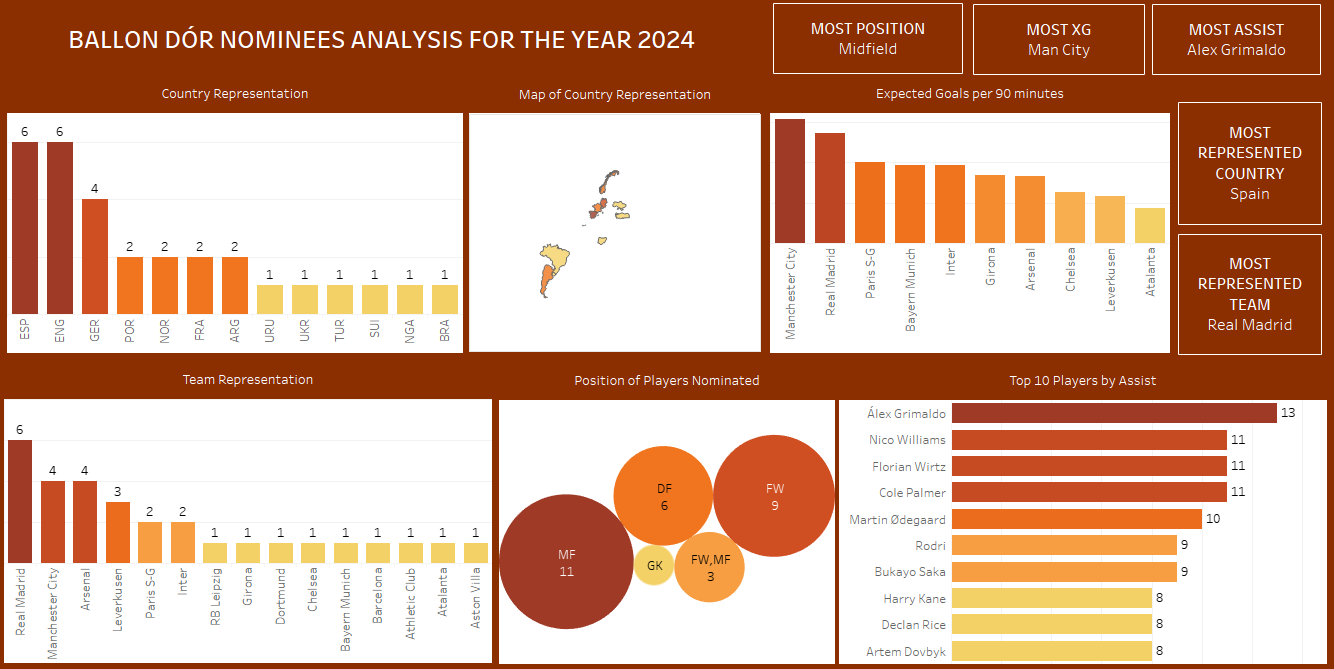

The dashboard page shown, as its layout file describes it:
{"tool":"tableau","page":{"name":"Dashboard","canvas":[1000,1000],"units":"permille","ordinal":0},"visuals":[{"type":"text","box":[11.5,24.2,976.9,951.7]},{"type":"text","box":[578.1,26,139.4,102.2]},{"type":"text","box":[10.7,27.9,561.3,98.5]},{"type":"text","box":[724.7,27.9,126.1,102.2]},{"type":"text","box":[856.1,27.9,123.5,102.2]},{"type":"worksheet","title":"Country Representation","mark":"Automatic","rows":["player"],"cols":["nation"],"box":[17.8,135.7,333.9,392.2]},{"type":"worksheet","title":"Expected Goals per 90 minutes","mark":"Automatic","rows":["Per 90 Minutes-xG"],"cols":["team"],"box":[576.4,135.7,293.1,392.2]},{"type":"worksheet","title":"Map of Country Representation","mark":"Multipolygon","box":[356.1,137.6,214,399.6]},{"type":"text","box":[874.8,167.3,105.7,176.6]},{"type":"text","box":[874.8,356.9,105.7,172.9]},{"type":"worksheet","title":"Team Representation","mark":"Automatic","rows":["player"],"cols":["team"],"box":[15.6,545.6,357.6,425.7]},{"type":"worksheet","title":"Position of Players Nominated","mark":"Circle","box":[377.5,547.3,245.9,425.7]},{"type":"worksheet","title":"Top 10 Players by Assist","mark":"Automatic","rows":["player"],"cols":["Ast"],"box":[626.8,547.3,357.6,425.7]}]}

Visuals, with their boxes on the dashboard's canvas, which has no fixed pixel size, in thousandths of its width and height (x1, y1, x2, y2). These are canvas units, not pixel positions in the 1334x669 screenshot, which may show the page scaled, cropped or inside an application window:
text: (x1=12, y1=24, x2=988, y2=976)
text: (x1=578, y1=26, x2=718, y2=128)
text: (x1=11, y1=28, x2=572, y2=126)
text: (x1=725, y1=28, x2=851, y2=130)
text: (x1=856, y1=28, x2=980, y2=130)
"Country Representation" worksheet: (x1=18, y1=136, x2=352, y2=528)
"Expected Goals per 90 minutes" worksheet: (x1=576, y1=136, x2=870, y2=528)
"Map of Country Representation" worksheet (Multipolygon marks): (x1=356, y1=138, x2=570, y2=537)
text: (x1=875, y1=167, x2=980, y2=344)
text: (x1=875, y1=357, x2=980, y2=530)
"Team Representation" worksheet: (x1=16, y1=546, x2=373, y2=971)
"Position of Players Nominated" worksheet (Circle marks): (x1=378, y1=547, x2=623, y2=973)
"Top 10 Players by Assist" worksheet: (x1=627, y1=547, x2=984, y2=973)
